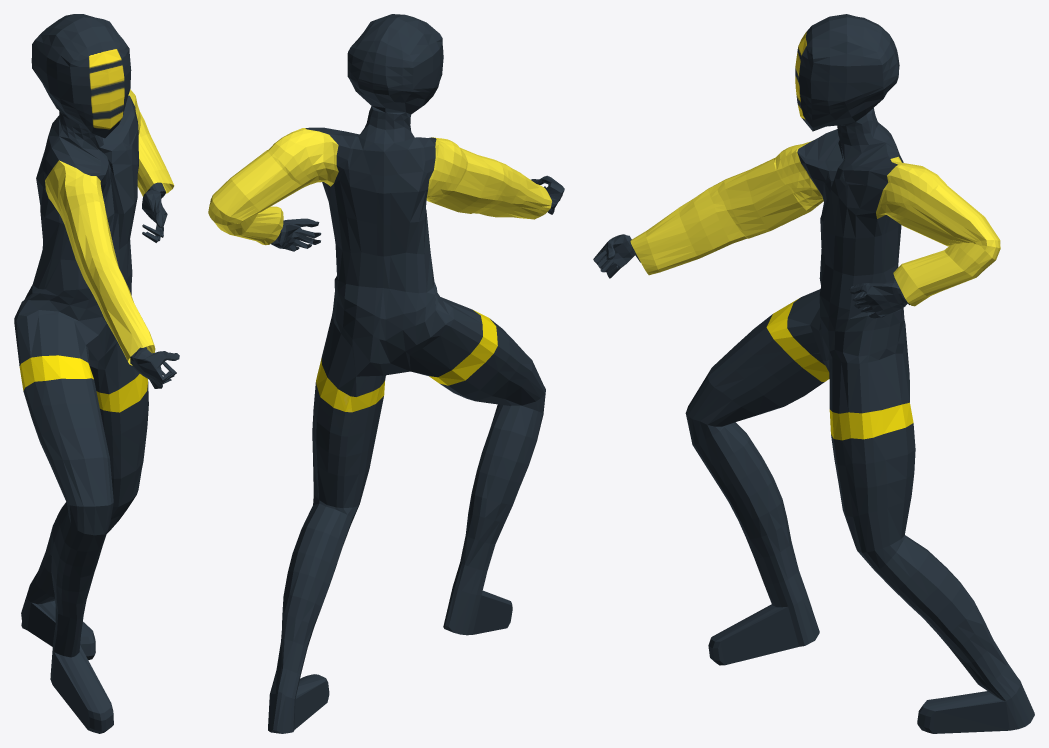
File: Sentry_WF_000022.obj
3 renders of one model, left to right at view 1: azimuth 30°, elevation 25°; view 2: azimuth 150°, elevation 25°; view 3: azimuth 270°, elevation 25°, orthographic. The views are drawn at different scales.
Visible parts, largest first — view 1: Cube; view 2: Cube; view 3: Cube.
Boxes of the visible parts, box(x1,y1,x2,y2) form: Cube: box(14, 14, 179, 733); Cube: box(208, 14, 564, 733); Cube: box(593, 14, 1034, 733).
Size of the model in its own units: 1.19 by 3.71 by 2.15.
